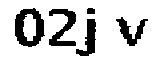0: (13, 6, 46, 48)
2: (47, 3, 82, 48)
j: (77, 1, 100, 60)
v: (116, 13, 149, 48)
